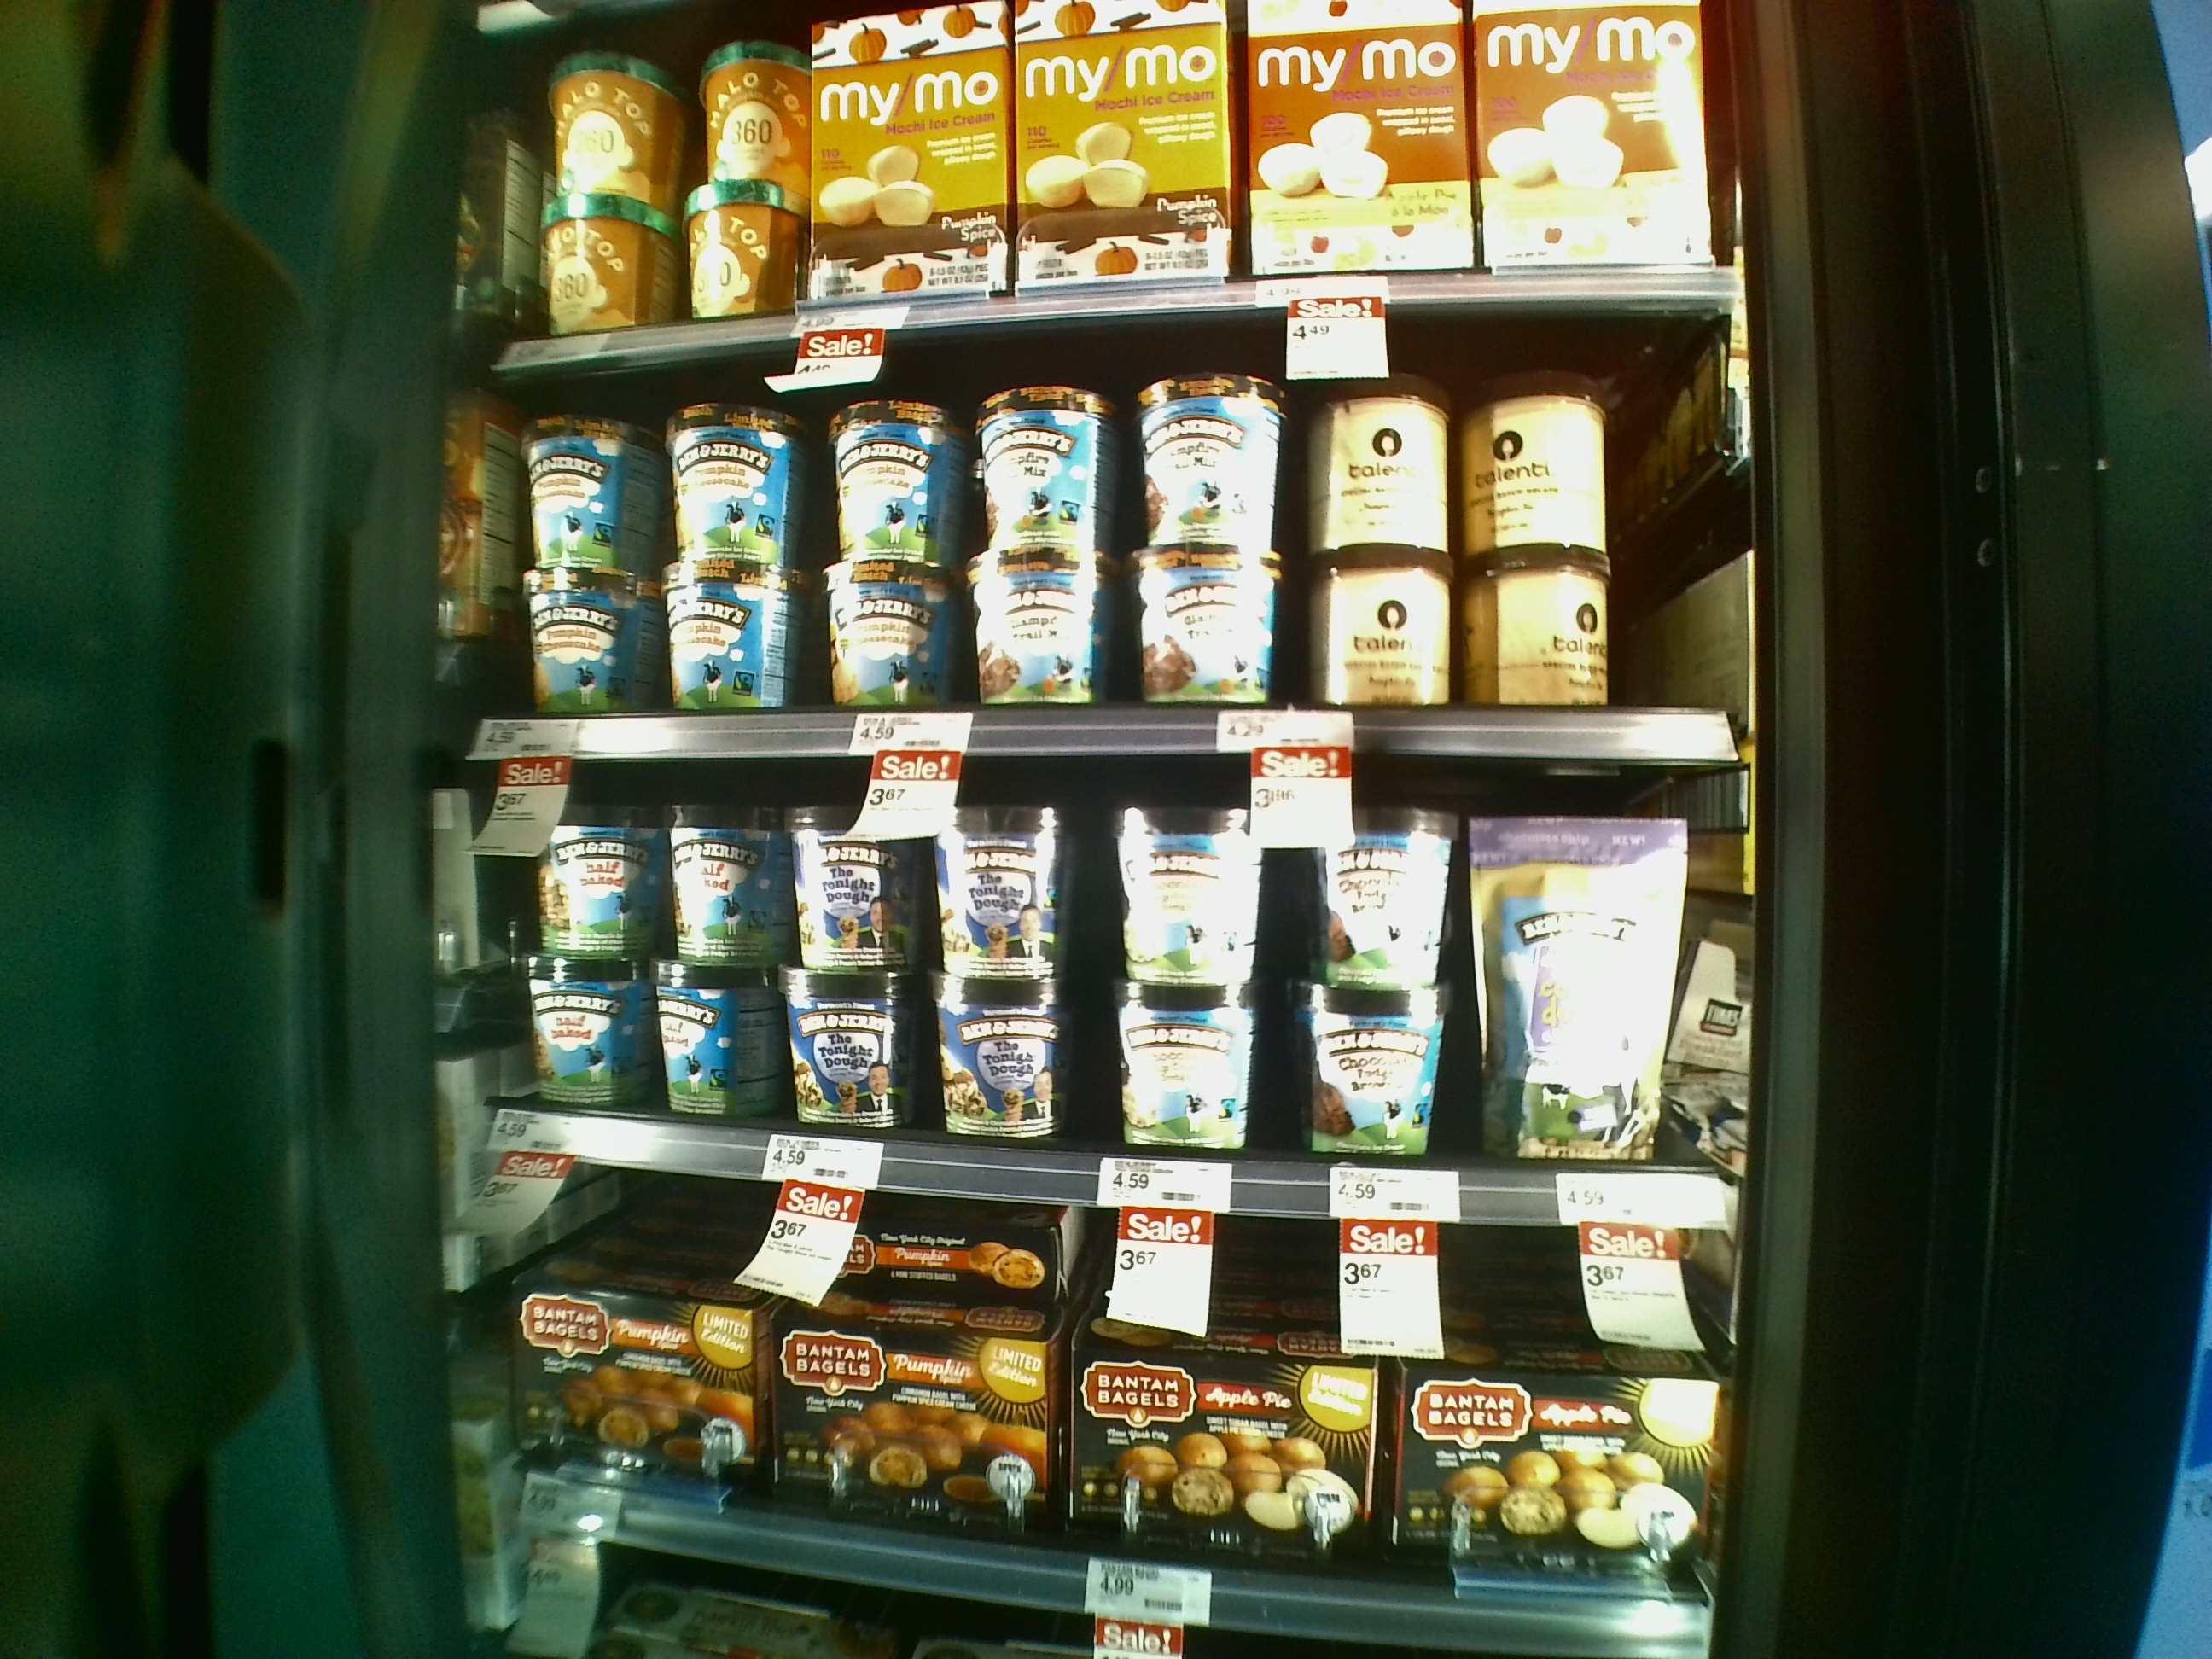shelf: (467, 706, 1730, 1229), (477, 1140, 1712, 1652), (479, 357, 1749, 758)
